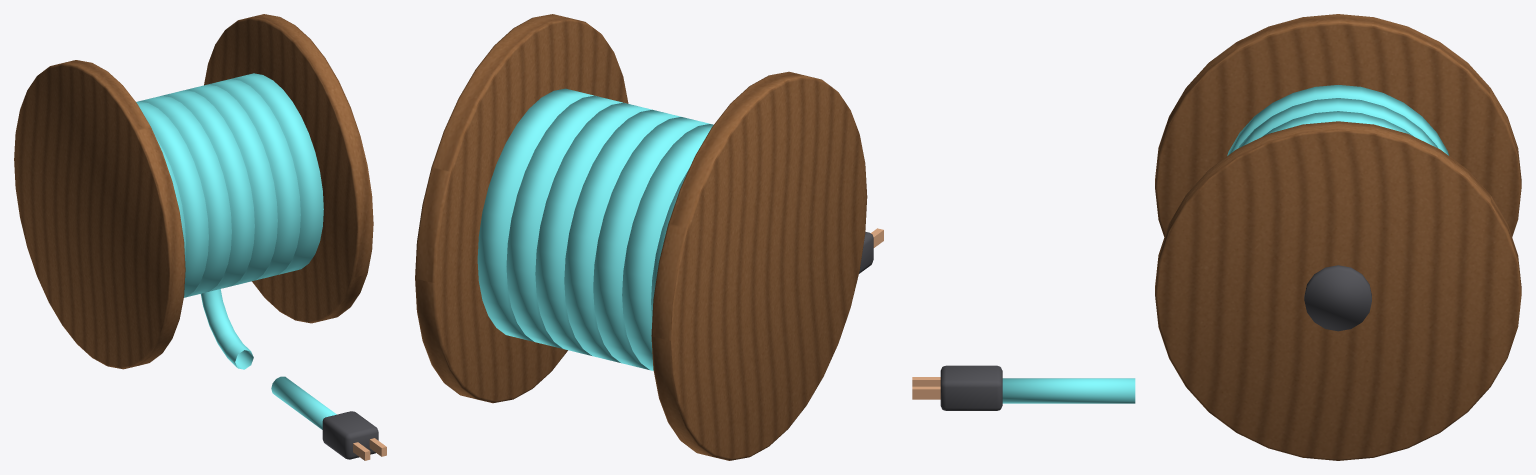
File: GlowWire.glb
3 renders of one model, left to right at view 1: azimuth 30°, elevation 25°; view 2: azimuth 150°, elevation 25°; view 3: azimuth 270°, elevation 25°, orthographic. The views are drawn at different scales.
Parts seen in each view (by area): view 1: GlowWire; view 2: GlowWire; view 3: GlowWire.
Boxes of the visible parts, x1,y1,x2,y2 form: GlowWire: (14,14,386,460); GlowWire: (415,14,883,460); GlowWire: (912,14,1521,460).
Bounding box in the file's own units: 1.02 × 1.3 × 2.16.
Materials: 1 (1 with a texture image).
